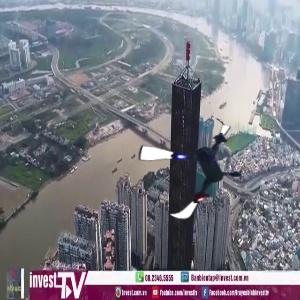drone: (138, 116, 250, 228)
